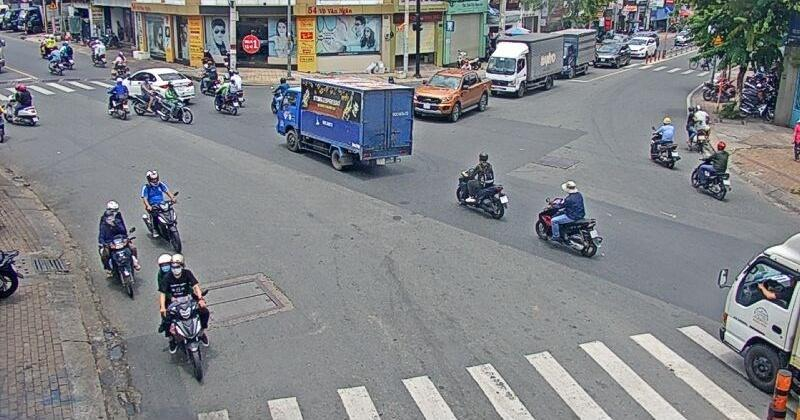xe hoi: (413, 65, 492, 121), (119, 66, 193, 100)
xe may: (158, 251, 212, 383), (533, 181, 600, 255), (454, 148, 509, 218), (96, 199, 131, 295), (141, 170, 181, 249), (693, 142, 728, 197), (155, 79, 192, 125), (650, 119, 680, 171), (129, 73, 163, 117), (215, 71, 241, 116), (104, 79, 130, 122)
xe tai: (269, 77, 416, 176)
